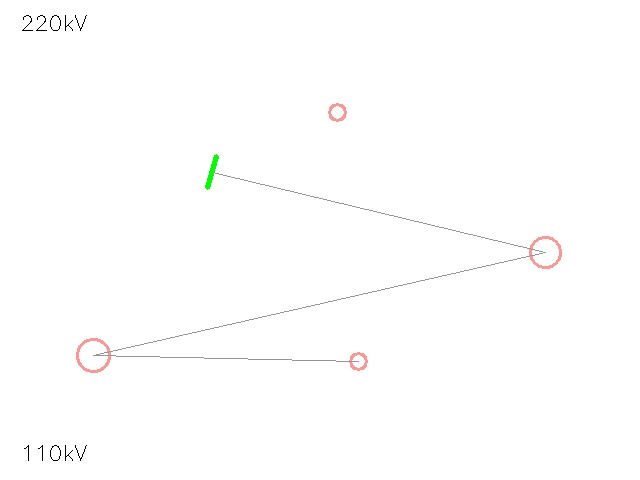busbar: (192, 152, 232, 192)
current_transformer: (321, 96, 353, 128)
disconnect_switch: (61, 323, 125, 387), (514, 221, 576, 283)
load_break_switch: (341, 344, 375, 378)
